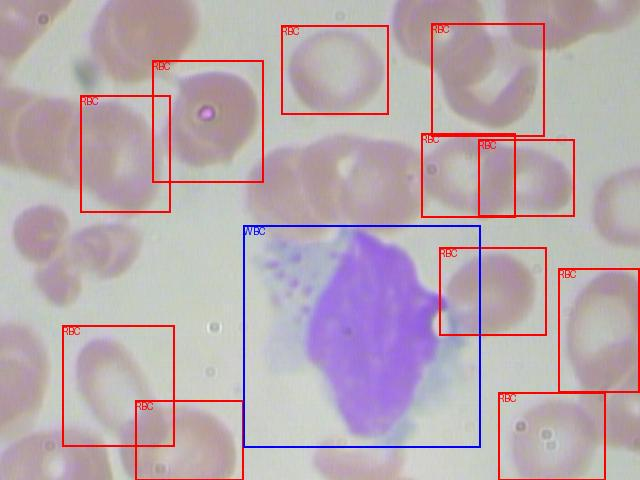RBC: (62, 325, 174, 446), (152, 60, 263, 182), (431, 23, 544, 136), (80, 95, 170, 212), (558, 268, 639, 392), (281, 25, 388, 114), (439, 247, 546, 335), (498, 392, 605, 480), (135, 400, 243, 480), (421, 133, 515, 217), (478, 139, 574, 216)
WBC: (243, 225, 480, 447)
